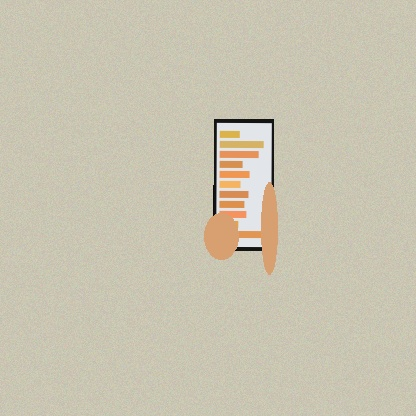cell_phone: (213, 119, 274, 251)
